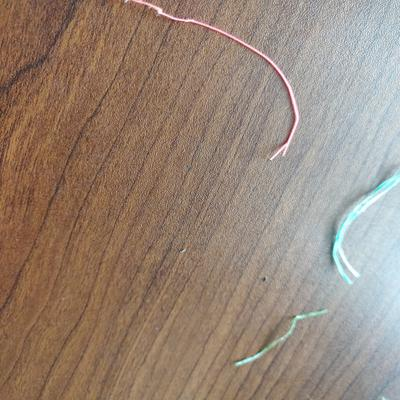thread: (121, 1, 300, 162), (328, 157, 400, 290), (231, 308, 330, 369)
